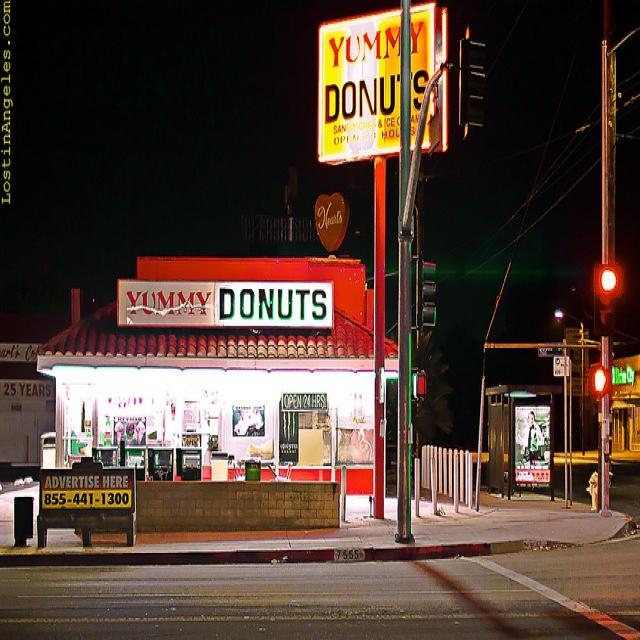fire_hydrant: (585, 469, 596, 509)
pole: (392, 0, 415, 535), (594, 40, 618, 507), (368, 152, 391, 517)
